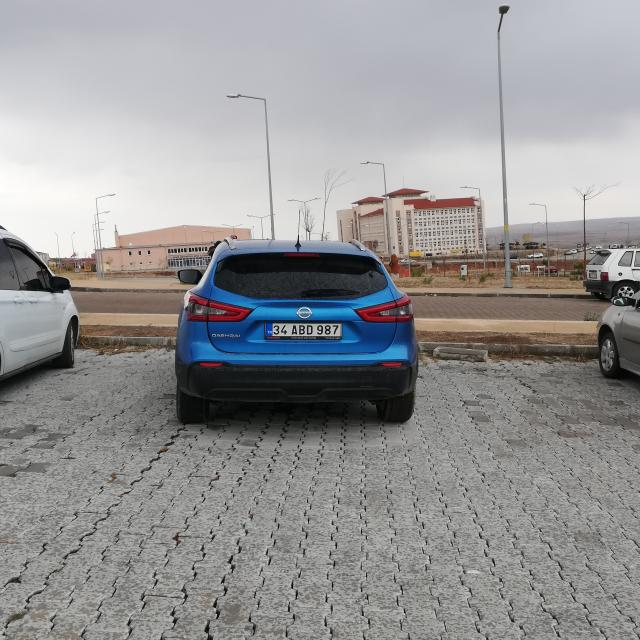license_plate: (266, 323, 342, 336)
